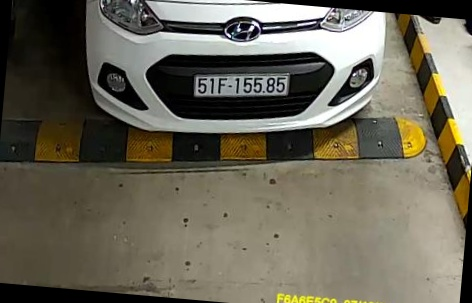plate: (189, 64, 295, 106)
